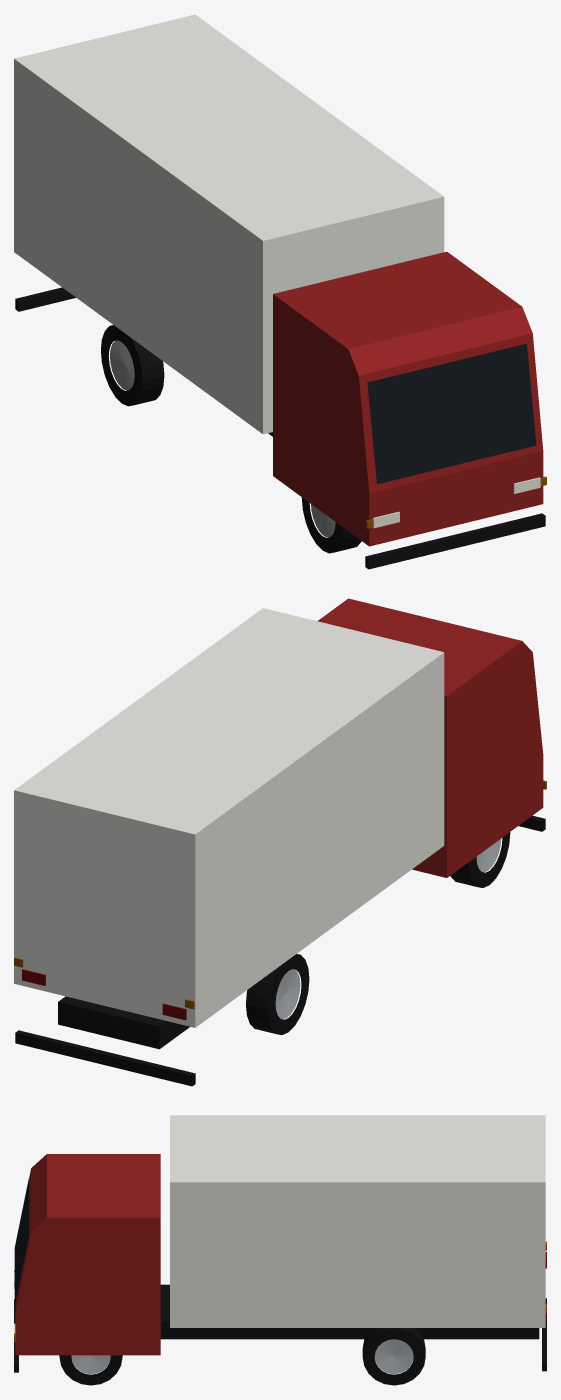
Rendered from body.glb.
3 views of the same model, one above another, from view 1: azimuth 30°, elevation 25°; view 2: azimuth 150°, elevation 25°; view 3: azimuth 270°, elevation 25° (orthographic). The views are drawn at different scales.
Visible parts, largest first — view 1: box, cab, glass, wheel_RR, trim, wheel_RF; view 2: box, cab, wheel_RR, chassis, trim, wheel_RF; view 3: box, cab, chassis, wheel_LR, wheel_LF, glass, trim.
Part boxes in pixels (x1,y1,x2,y2): box: [14, 14, 444, 434]; cab: [273, 251, 543, 546]; glass: [367, 343, 536, 484]; wheel_RR: [101, 325, 164, 406]; trim: [15, 287, 545, 569]; wheel_RF: [301, 497, 361, 553]; box: [14, 608, 444, 1027]; cab: [317, 598, 543, 877]; wheel_RR: [246, 954, 309, 1034]; chassis: [58, 996, 189, 1049]; trim: [15, 815, 545, 1086]; wheel_RF: [450, 832, 510, 887]; box: [170, 1115, 545, 1327]; cab: [15, 1154, 160, 1355]; chassis: [160, 1284, 539, 1339]; wheel_LR: [362, 1328, 425, 1385]; wheel_LF: [59, 1355, 122, 1385]; glass: [14, 1178, 28, 1305]; trim: [14, 1298, 546, 1372].
Bounding box in the file's own units: 2.5 × 3.6 × 8.44.
